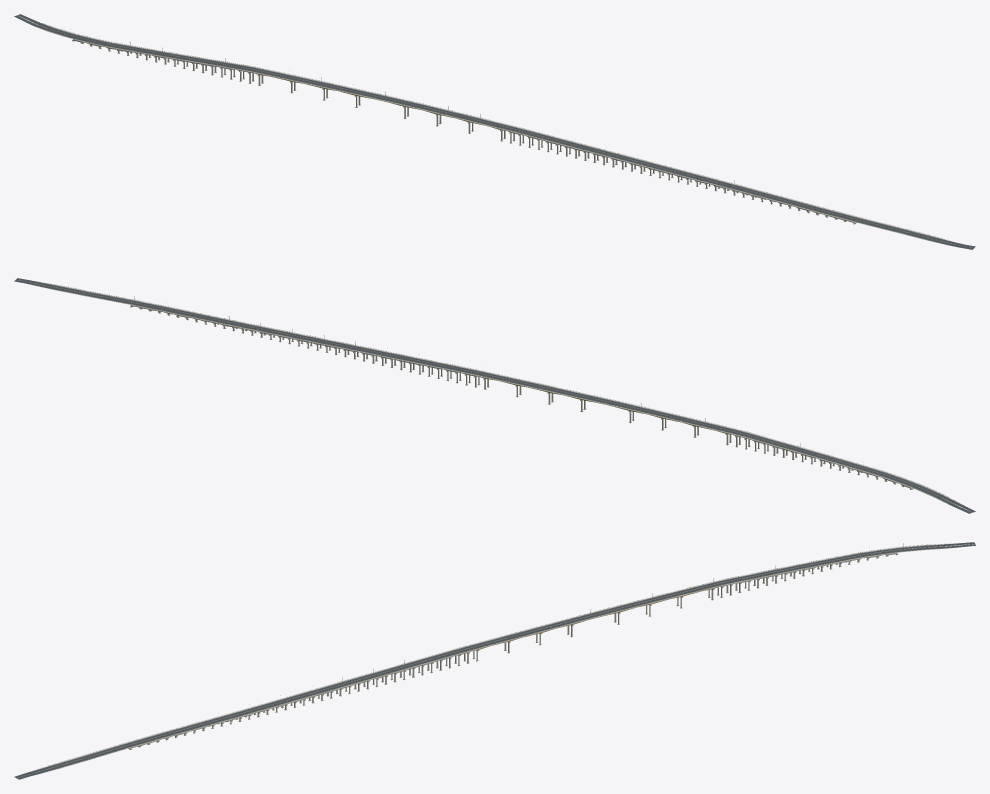
Rendered from oak-street-bridge-far.glb.
3 renders of one model, top to bottom at view 1: azimuth 30°, elevation 25°; view 2: azimuth 210°, elevation 25°; view 3: azimuth 270°, elevation 25°, orthographic.
Parts seen in each view (by area): view 1: oak-street-bridge-0-concrete, oak-street-bridge-0-asphalt, oak-street-bridge-0-rail; view 2: oak-street-bridge-0-concrete, oak-street-bridge-0-asphalt, oak-street-bridge-0-rail; view 3: oak-street-bridge-0-concrete, oak-street-bridge-0-asphalt, oak-street-bridge-0-rail.
Boxes of the visible parts, <box> form: oak-street-bridge-0-concrete: <box>20,17,961,247</box>; oak-street-bridge-0-asphalt: <box>14,14,975,249</box>; oak-street-bridge-0-rail: <box>32,22,952,246</box>; oak-street-bridge-0-concrete: <box>28,280,969,510</box>; oak-street-bridge-0-asphalt: <box>14,278,975,513</box>; oak-street-bridge-0-rail: <box>42,284,955,507</box>; oak-street-bridge-0-concrete: <box>25,543,965,775</box>; oak-street-bridge-0-asphalt: <box>14,542,975,779</box>; oak-street-bridge-0-rail: <box>39,543,945,773</box>.
Bounding box in the file's own units: 930 × 34.24 × 1591.
